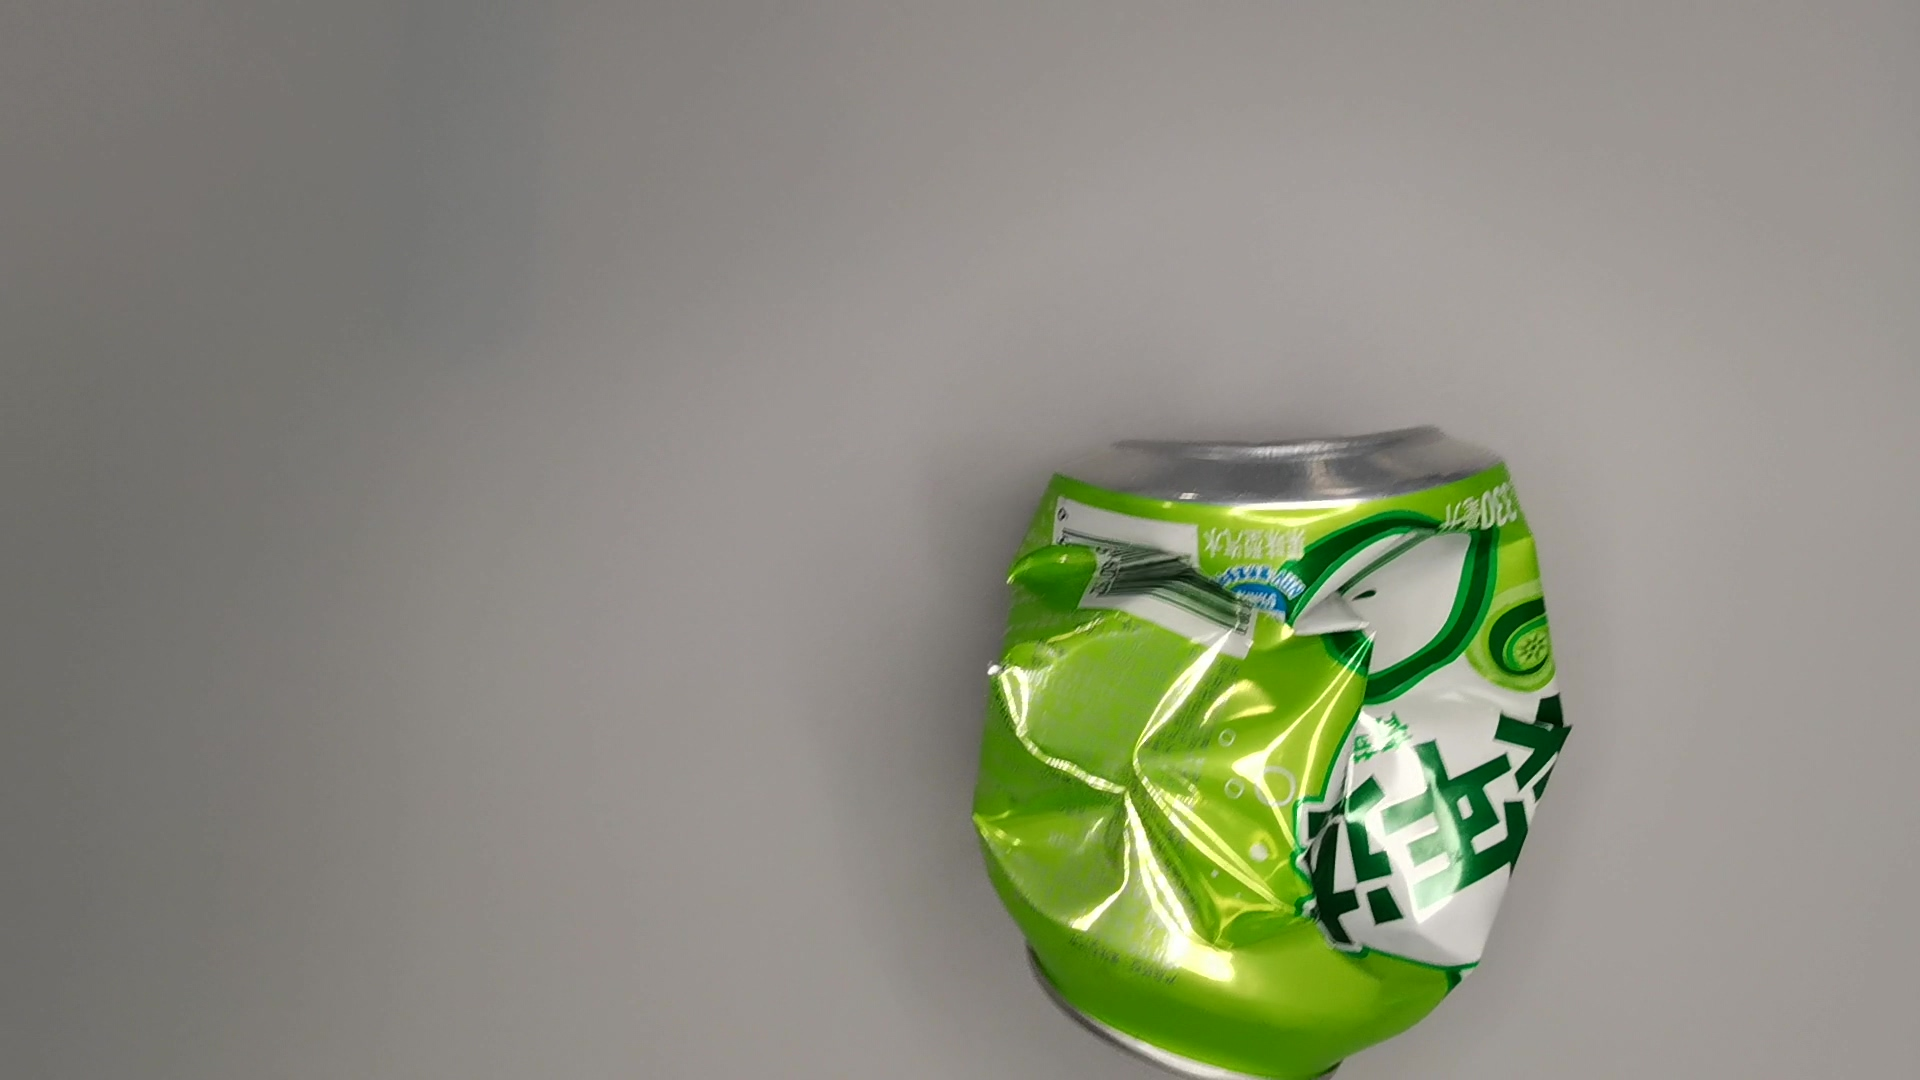can: (963, 413, 1581, 1080)
